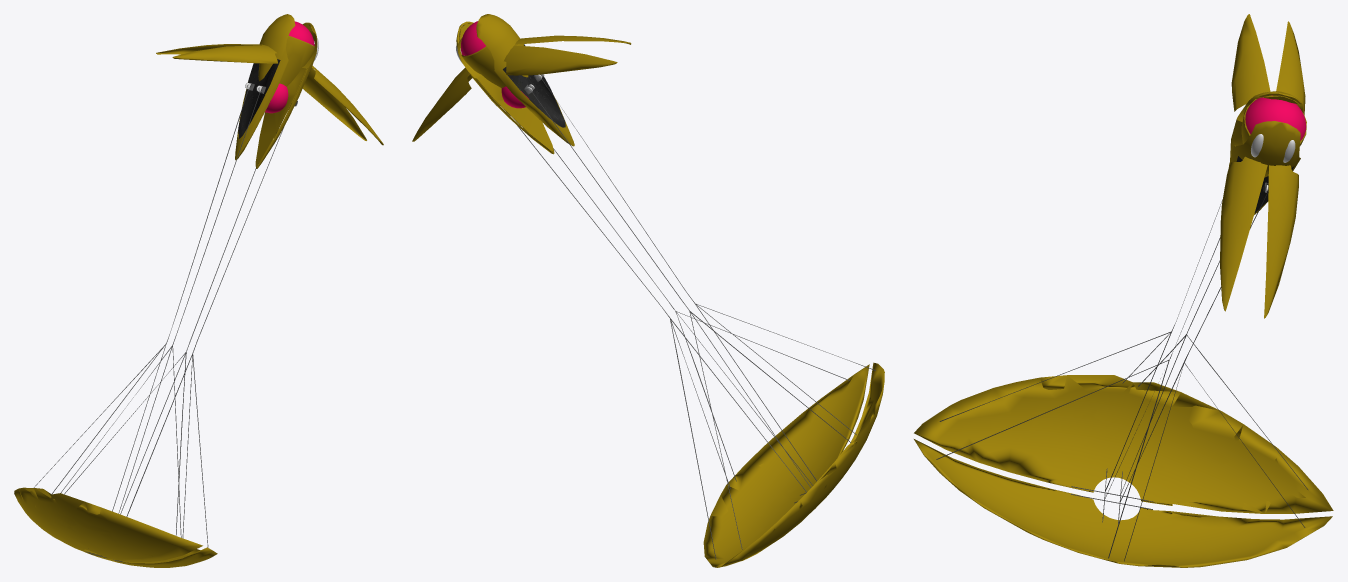
File: solarsailer.lod1.glb
3 renders of one model, left to right at view 1: azimuth 30°, elevation 25°; view 2: azimuth 150°, elevation 25°; view 3: azimuth 270°, elevation 25°, orthographic. The views are drawn at different scales.
Visible parts, largest first — view 1: Object_4, Object_20, Object_6, Object_10; view 2: Object_4, Object_20, Object_6, Object_10; view 3: Object_4, Object_20, Object_10.
Boxes of the visible parts, x1,y1,x2,y2 form: Object_4: [14, 14, 383, 567]; Object_20: [34, 83, 297, 561]; Object_6: [238, 24, 309, 138]; Object_10: [265, 21, 314, 113]; Object_4: [412, 14, 884, 567]; Object_20: [496, 74, 875, 559]; Object_6: [460, 25, 568, 149]; Object_10: [461, 21, 528, 108]; Object_4: [914, 14, 1333, 567]; Object_20: [936, 182, 1308, 561]; Object_10: [1245, 95, 1306, 140].
Bounding box in the file's own units: 16.8 × 19.99 × 12.77.
Materials: 5 (1 with a texture image).
